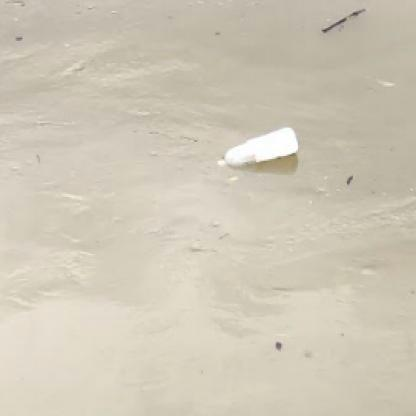Plastic: (218, 125, 298, 168)
